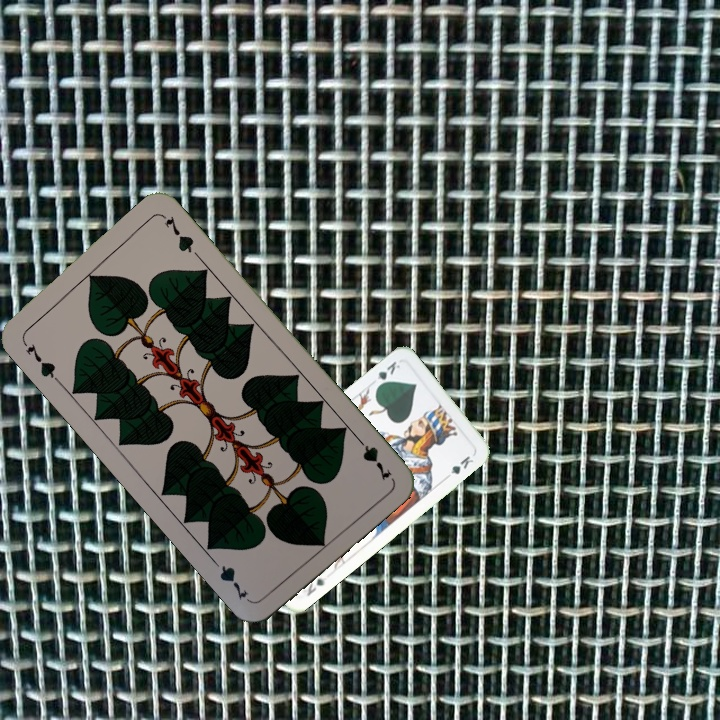G7: (351, 431, 394, 483), (18, 335, 61, 385)
GK: (367, 357, 403, 391), (302, 573, 329, 599)
